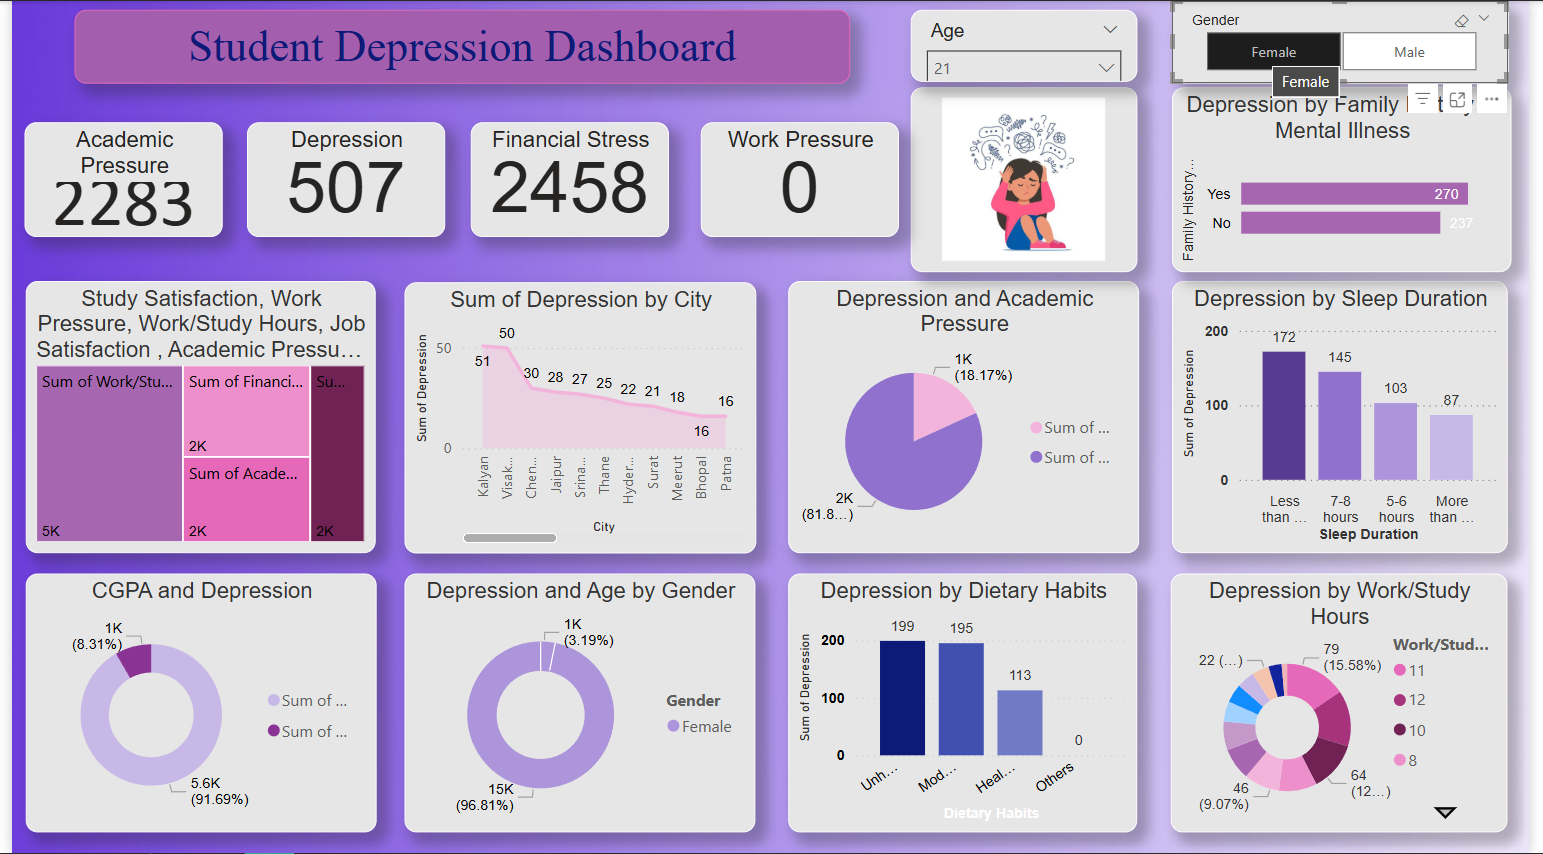

The page's visual inventory and layout, read from the dashboard file:
{"tool":"powerbi","page":{"name":"Page 1","canvas":[1280,720],"ordinal":0},"visuals":[{"type":"donutChart","title":" Depression and Age by Gender","fields":{"Category":["Student Depression Dataset.Gender"],"Y":["Sum(Student Depression Dataset.Depression)","Sum(Student Depression Dataset.Age)"]},"box":[331.5,483.1,296.1,218.2],"z":0},{"type":"clusteredColumnChart","title":" Depression by Sleep Duration","fields":{"Category":["Student Depression Dataset.Sleep Duration"],"Y":["Sum(Student Depression Dataset.Depression)"]},"box":[978.9,236.6,283.3,229.5],"z":1000},{"type":"clusteredBarChart","title":"Depression by Family History of Mental Illness","fields":{"Category":["Student Depression Dataset.Family History of Mental Illness"],"Y":["Sum(Student Depression Dataset.Depression)"]},"box":[978.9,72.3,286.2,155.8],"z":2000},{"type":"clusteredColumnChart","title":"Depression by Dietary Habits","fields":{"Category":["Student Depression Dataset.Dietary Habits"],"Y":["Sum(Student Depression Dataset.Depression)"]},"box":[654.5,483.1,294.7,218.2],"z":3000},{"type":"pieChart","title":"Depression and Academic Pressure","fields":{"Y":["Sum(Student Depression Dataset.Depression)","Sum(Student Depression Dataset.Academic Pressure)"]},"box":[654.5,236.6,296.1,229.5],"z":4000},{"type":"donutChart","title":"CGPA and Depression","fields":{"Y":["Sum(Student Depression Dataset.CGPA)","Sum(Student Depression Dataset.Depression)"]},"box":[11.3,483.1,296.1,218.2],"z":5000},{"type":"donutChart","title":"Depression by Work/Study Hours","fields":{"Category":["Student Depression Dataset.Work/Study Hours"],"Y":["Sum(Student Depression Dataset.Depression)"]},"box":[977.9,482.6,283.7,218.6],"z":6000},{"type":"textbox","box":[52.6,7.2,654.6,62.1],"z":7000},{"type":"treemap","title":"Study Satisfaction, Work Pressure, Work/Study Hours, Job Satisfaction , Academic Pressure and Financial Stress","fields":{"Values":["Sum(Student Depression Dataset.Study Satisfaction)","Sum(Student Depression Dataset.Work Pressure)","Sum(Student Depression Dataset.Work/Study Hours)","Sum(Student Depression Dataset.Job Satisfaction)","Sum(Student Depression Dataset.Academic Pressure)","Sum(Student Depression Dataset.Financial Stress)"]},"box":[11.9,236.5,295.1,229.4],"z":9000},{"type":"image","box":[757.9,72.3,191.3,155.8],"z":10000},{"type":"card","title":"Work Pressure","fields":{"Values":["Sum(Student Depression Dataset.Work Pressure)"]},"box":[580.6,102.7,167.2,96.8],"z":11000},{"type":"slicer","fields":{"Values":["Student Depression Dataset.Gender"]},"box":[978.3,0,284.3,69.3],"z":12000},{"type":"slicer","fields":{"Values":["Student Depression Dataset.Age"]},"box":[757.9,7.1,191.3,60.9],"z":13000},{"type":"card","title":"Financial Stress","fields":{"Values":["Sum(Student Depression Dataset.Financial Stress)"]},"box":[387,102.7,167.2,96.8],"z":14000},{"type":"card","title":"Depression","fields":{"Values":["Sum(Student Depression Dataset.Depression)"]},"box":[198.3,102.7,167.2,96.8],"z":15000},{"type":"card","title":"Academic Pressure","fields":{"Values":["Sum(Student Depression Dataset.Academic Pressure)"]},"box":[10.7,102.4,167.5,97.1],"z":16000},{"type":"areaChart","fields":{"Category":["Student Depression Dataset.City"],"Y":["Sum(Student Depression Dataset.Depression)"]},"box":[331.4,237.2,296.5,229.1],"z":16001}]}

Visuals, with their boxes in screenshot pixels (x1, y1, x2, y2):
" Depression and Age by Gender" donutChart: (left=405, top=570, right=752, bottom=826)
" Depression by Sleep Duration" clusteredColumnChart: (left=1164, top=281, right=1496, bottom=550)
"Depression by Family History of Mental Illness" clusteredBarChart: (left=1164, top=89, right=1499, bottom=271)
"Depression by Dietary Habits" clusteredColumnChart: (left=783, top=570, right=1129, bottom=826)
"Depression and Academic Pressure" pieChart: (left=783, top=281, right=1130, bottom=550)
"CGPA and Depression" donutChart: (left=29, top=570, right=376, bottom=826)
"Depression by Work/Study Hours" donutChart: (left=1162, top=570, right=1495, bottom=826)
textbox: (left=78, top=12, right=845, bottom=85)
"Study Satisfaction, Work Pressure, Work/Study Hours, Job Satisfaction , Academic Pressure and Financial Stress" treemap: (left=30, top=281, right=376, bottom=550)
image: (left=905, top=89, right=1129, bottom=271)
"Work Pressure" card: (left=697, top=124, right=893, bottom=238)
slicer - Student Depression Dataset.Gender: (left=1163, top=4, right=1496, bottom=85)
slicer - Student Depression Dataset.Age: (left=905, top=12, right=1129, bottom=84)
"Financial Stress" card: (left=470, top=124, right=666, bottom=238)
"Depression" card: (left=249, top=124, right=445, bottom=238)
"Academic Pressure" card: (left=29, top=124, right=225, bottom=238)
areaChart - Student Depression Dataset.City x Sum(Student Depression Dataset.Depression): (left=405, top=282, right=752, bottom=551)
